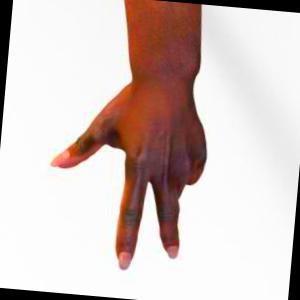scissors: (51, 0, 204, 269)
